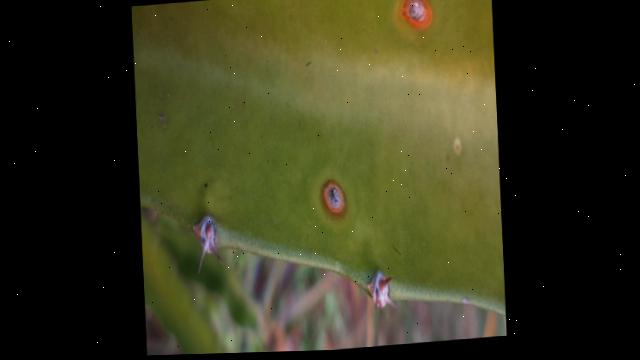stemcanker: (391, 1, 441, 37), (318, 176, 352, 222)
